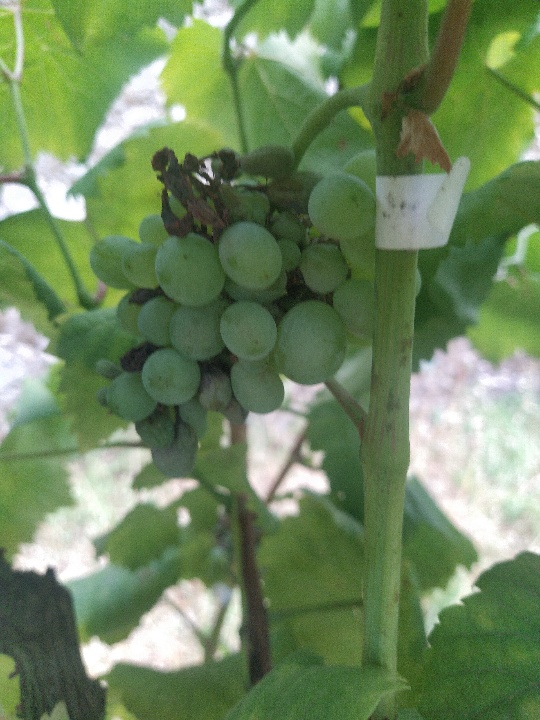grape: (83, 138, 375, 481)
